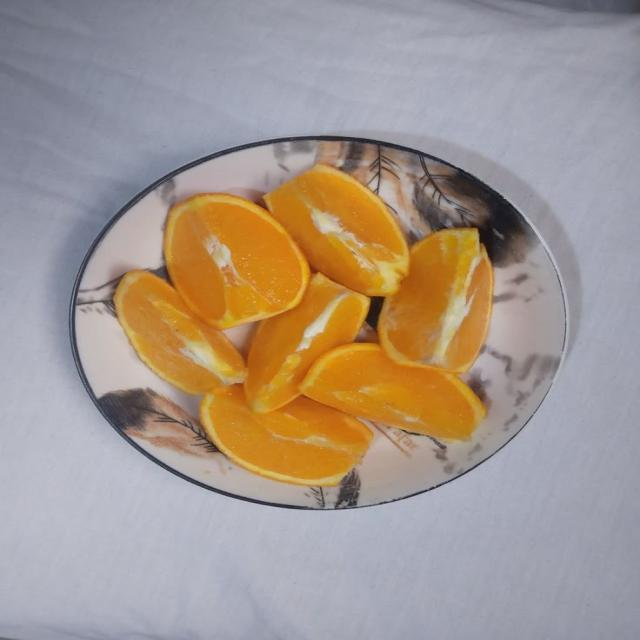orange: (165, 194, 309, 328), (265, 164, 408, 295), (301, 344, 485, 439), (245, 273, 369, 412), (200, 385, 372, 485), (379, 229, 493, 372), (114, 271, 246, 394)
